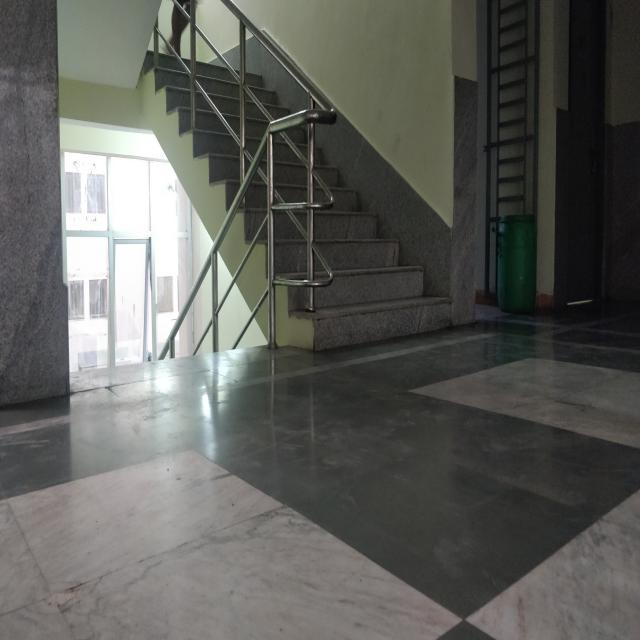stair: (236, 105, 445, 364)
